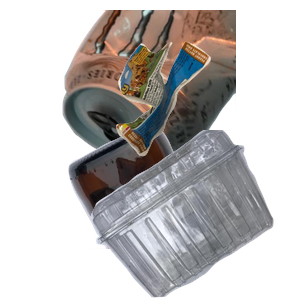glass: (66, 120, 300, 300)
metal: (60, 10, 300, 175)
plastic: (88, 130, 300, 300)
trash: (114, 39, 300, 188)
